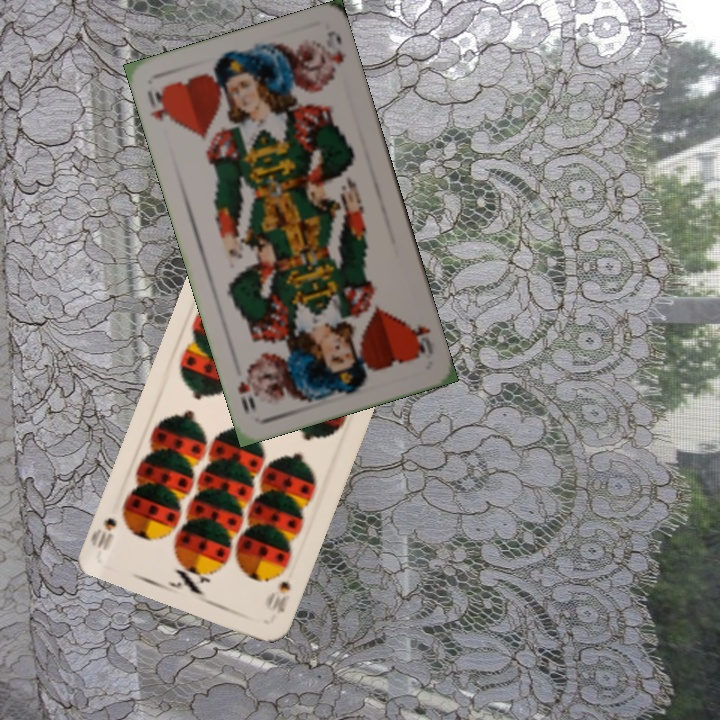HO: (142, 83, 177, 128), (404, 319, 436, 360)
S10: (263, 577, 293, 616)
